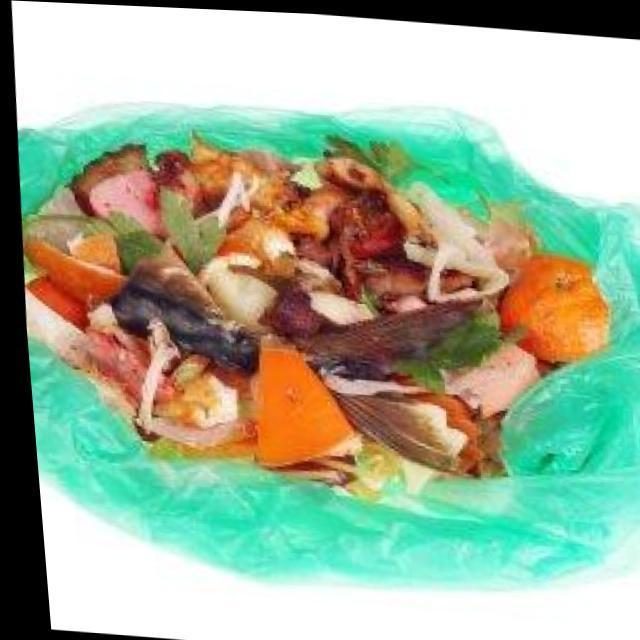Garbage: (21, 133, 608, 497)
